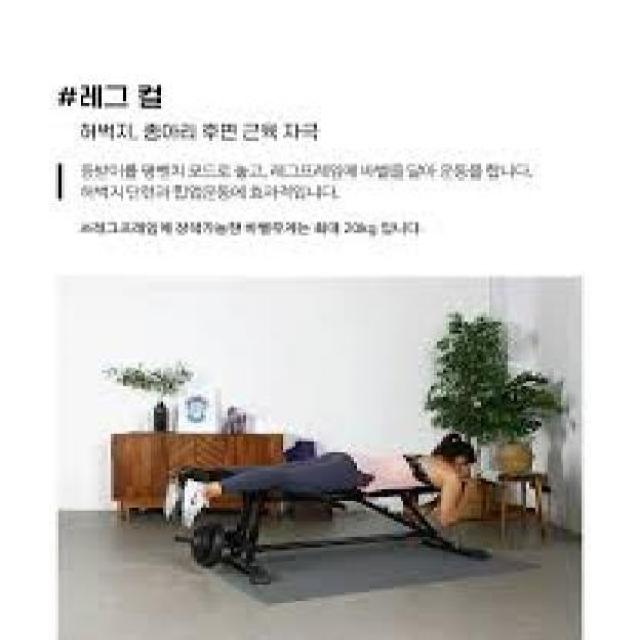reg curl machine: (165, 428, 506, 589)
